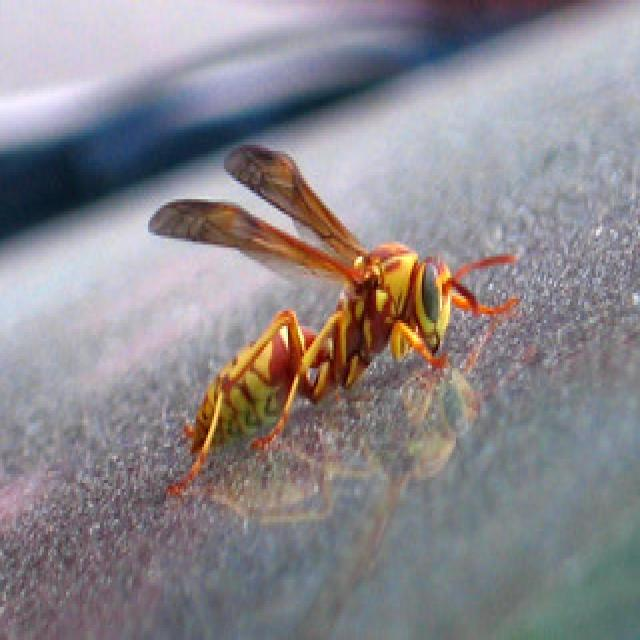Guepe: (136, 128, 550, 474)
